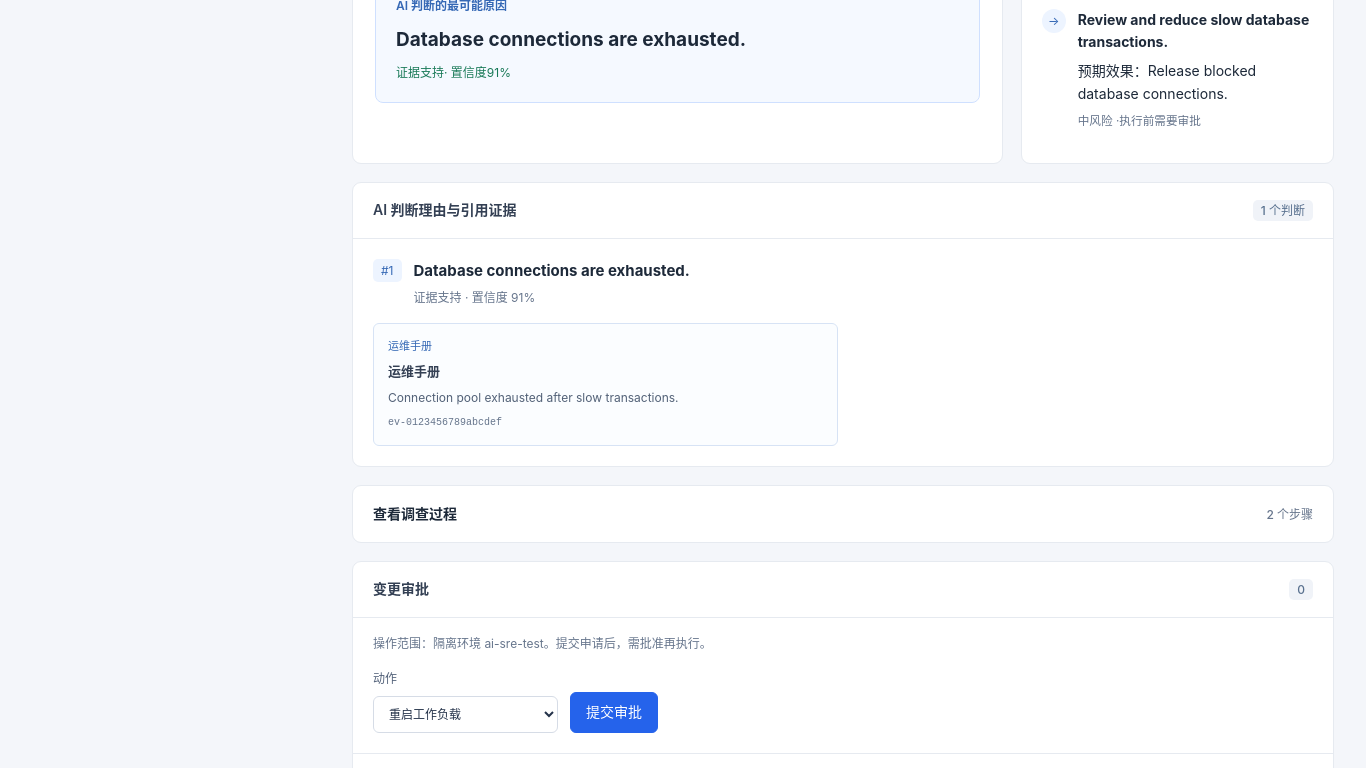
Test: App › renders the alert conclusion, cited reasoning, advice and evidence drawer
(page scrolled)
Expected: the heading "Database connections are exhausted." below "AI 判断的最可能原因" is shown, [396,28,746,51]
Expected: the text "AI 判断理由与引用证据" is shown, [373,199,517,222]
Click the button "ev-0123456789abcdef" at (410, 346), box [373,323,838,446]
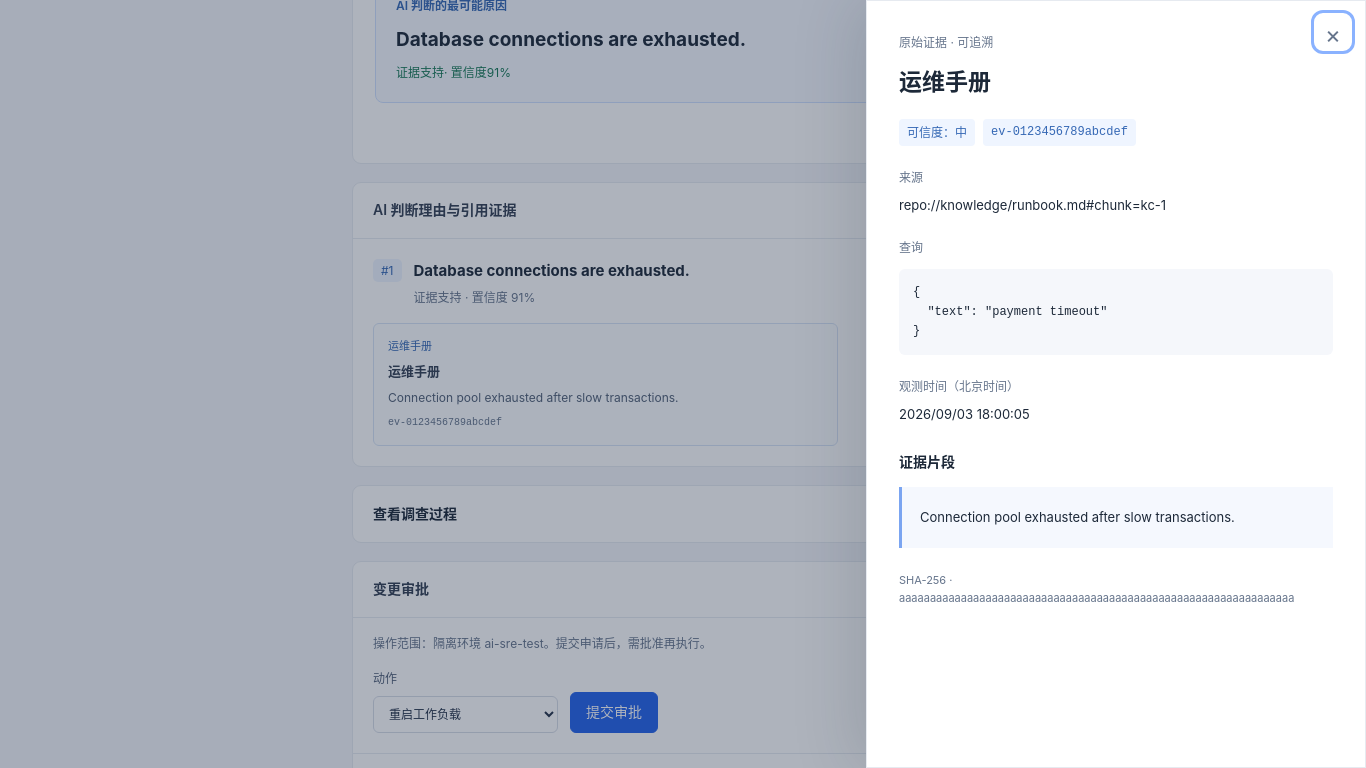
Expected: the dialog named "证据详情" is shown, [866,0,1365,767]
Expected: the text "Connection pool exhausted after slow transactions." is shown, [899,487,1333,548]
Expected: the text "{ \"text\": \"payment timeout\" }" is shown, [899,269,1333,355]
Click the button named "关闭证据详情" at (1333, 32), box [1317,16,1349,48]
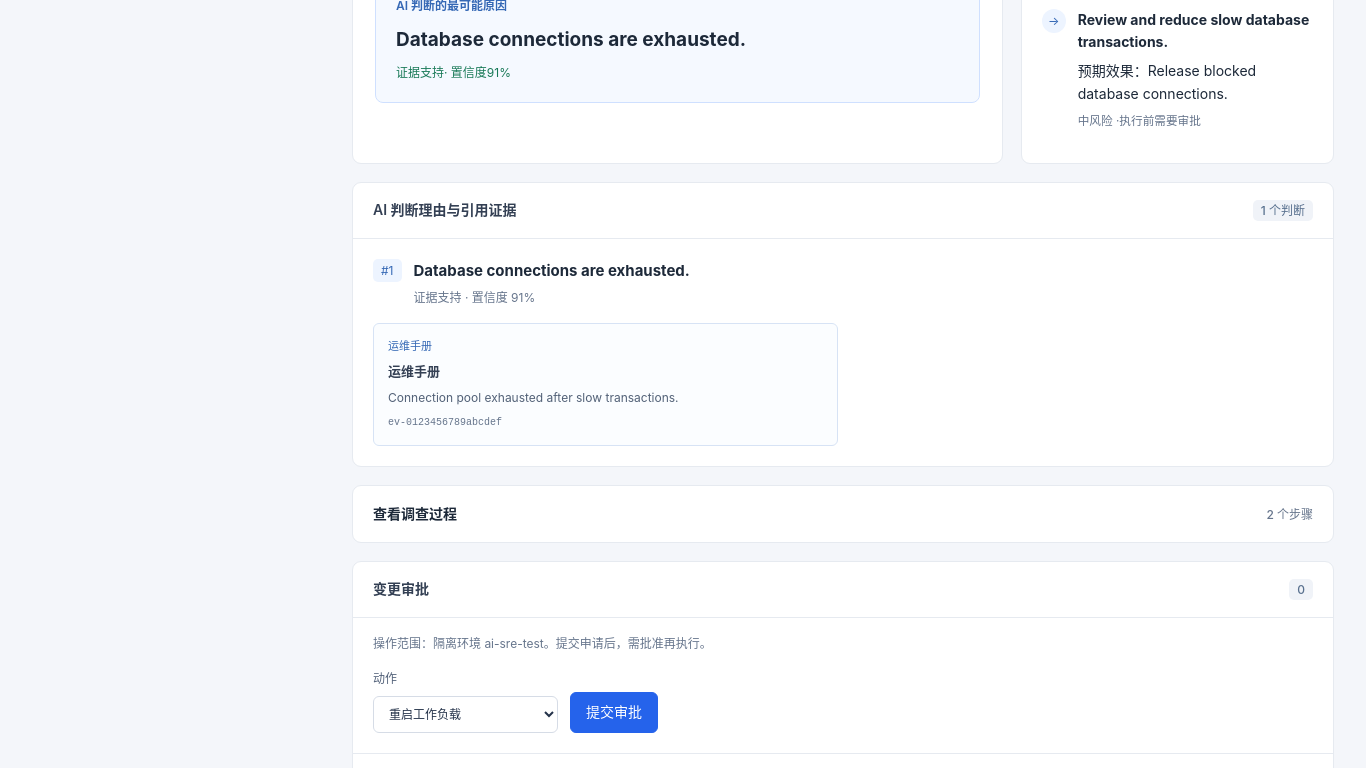
Expected: the dialog "证据详情" is gone
